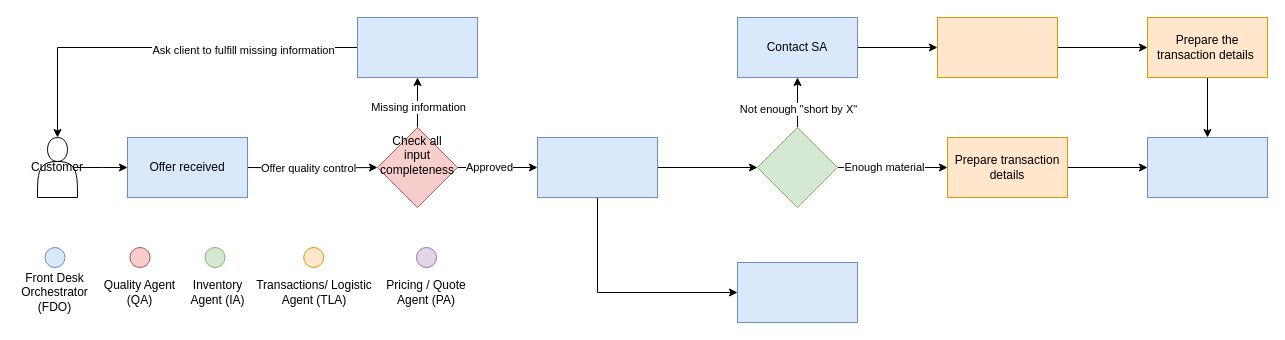
Some shapes in this 1285 by 340 pixel diagram are drawn without their labels. The centre of each missing label's shape, as x and y in pixels:
"Ask IA Inventory to check and check the price" belongs at [597,167].
"Check in system and get supplier delivery date" belongs at [997,47].
"Check inventory for query" belongs at [797,167].
"Received transaction" belongs at [1207,167].
